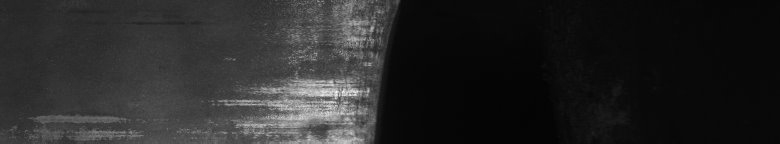kb: (236, 4, 360, 136)
